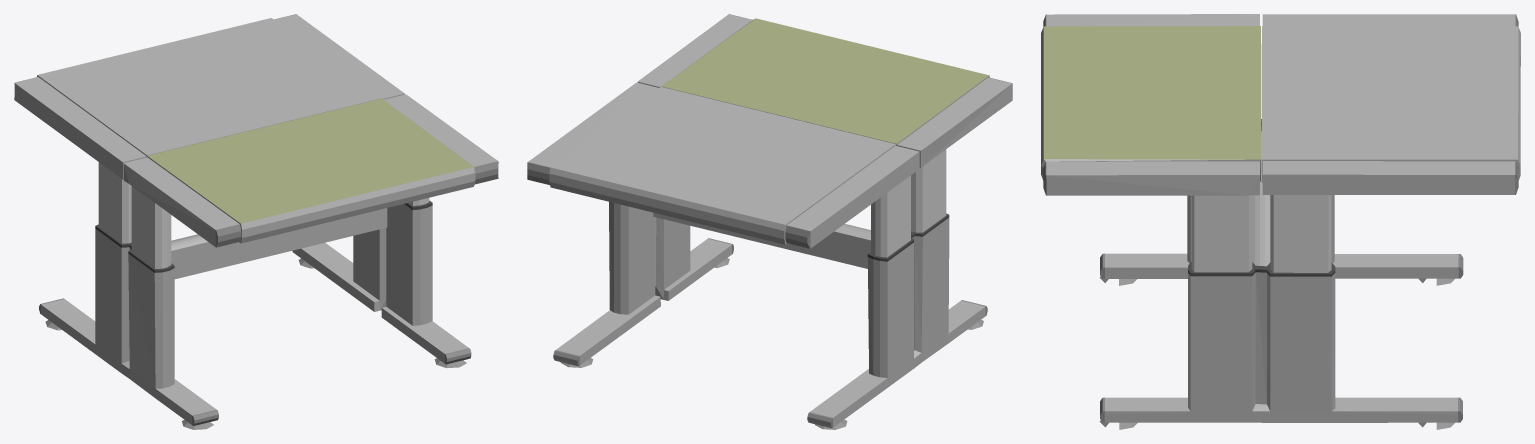
File: sweethome3d-blendswap-cc-0-technical-table-49.glb
3 renders of one model, left to right at view 1: azimuth 30°, elevation 25°; view 2: azimuth 150°, elevation 25°; view 3: azimuth 270°, elevation 25°, orthographic. The views are drawn at different scales.
Visible parts, largest first — view 1: Print_board_Plane.003; view 2: Print_board_Plane.003; view 3: Print_board_Plane.003.
Part boxes in pixels (x1,y1,x2,y2): Print_board_Plane.003: (14,14,498,429); Print_board_Plane.003: (527,14,1012,429); Print_board_Plane.003: (1041,14,1520,429).
Bounding box in the file's own units: 137 × 101 × 171.
